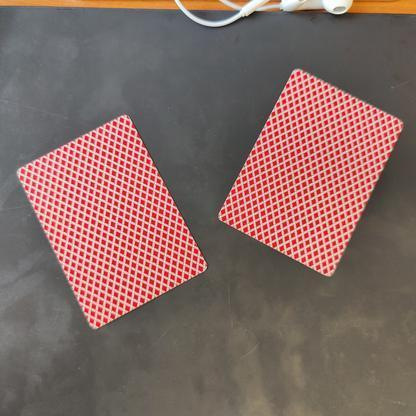card: (11, 106, 215, 341), (207, 56, 411, 291)
